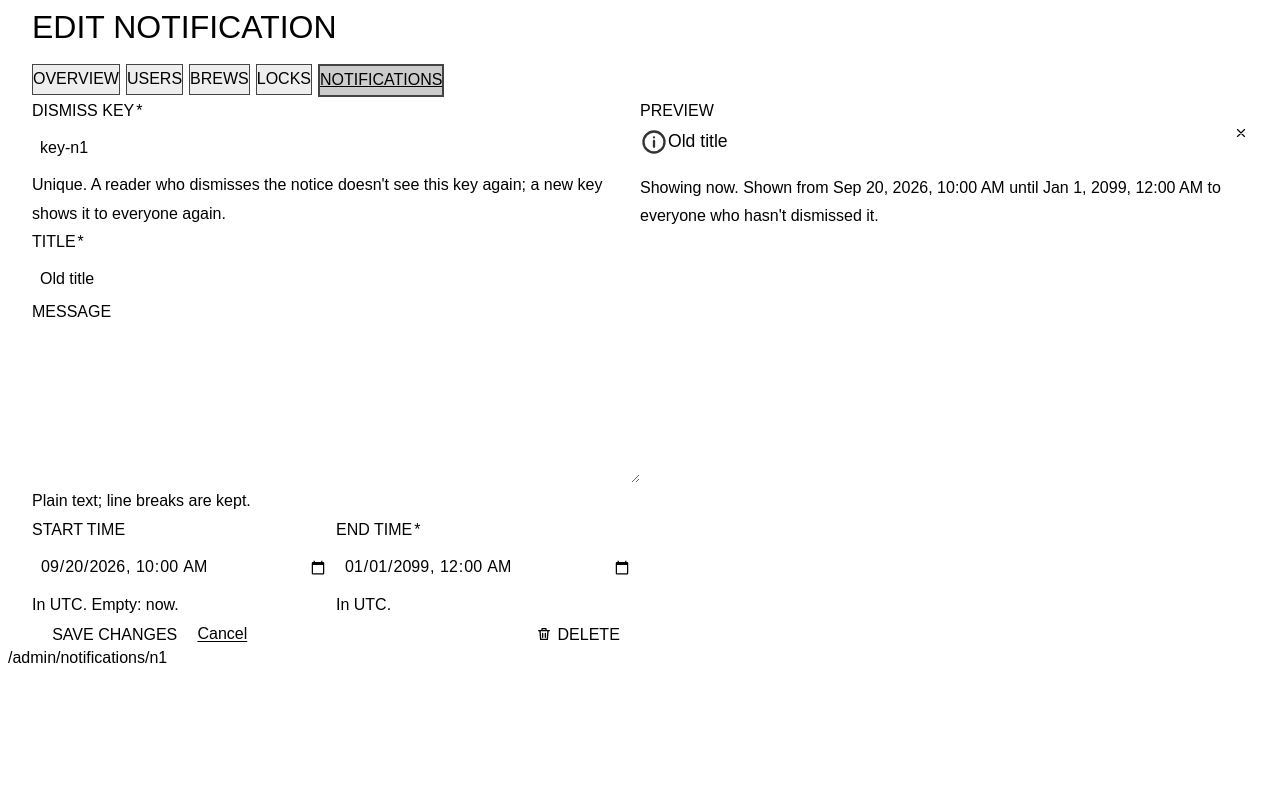
Test case: notifications › edits one and keeps untouched times as stored
Check: the heading "Edit notification" is shown, box top-left (32, 9), bottom-right (337, 45)
Check: the element with test id "admin-preview-when" shows "Showing now.", box top-left (640, 179), bottom-right (743, 196)
Replace the text in the field with test id "admin-notification-title" with "New title": (336, 280) top-left (32, 261), bottom-right (640, 298)
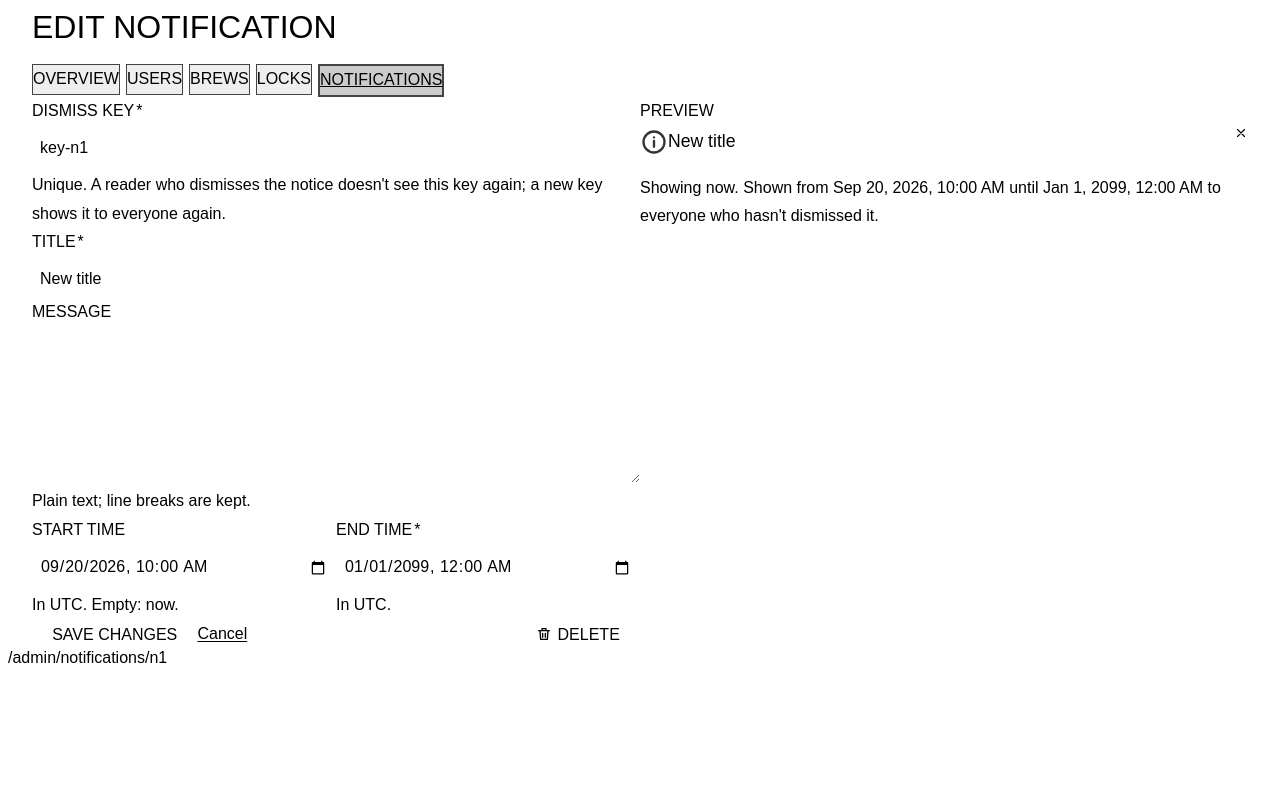
Check: the text with test id "admin-preview-title" reads "New title", box top-left (668, 131), bottom-right (736, 151)
Click the button with test id "admin-notification-save": (115, 634) top-left (32, 624), bottom-right (198, 645)
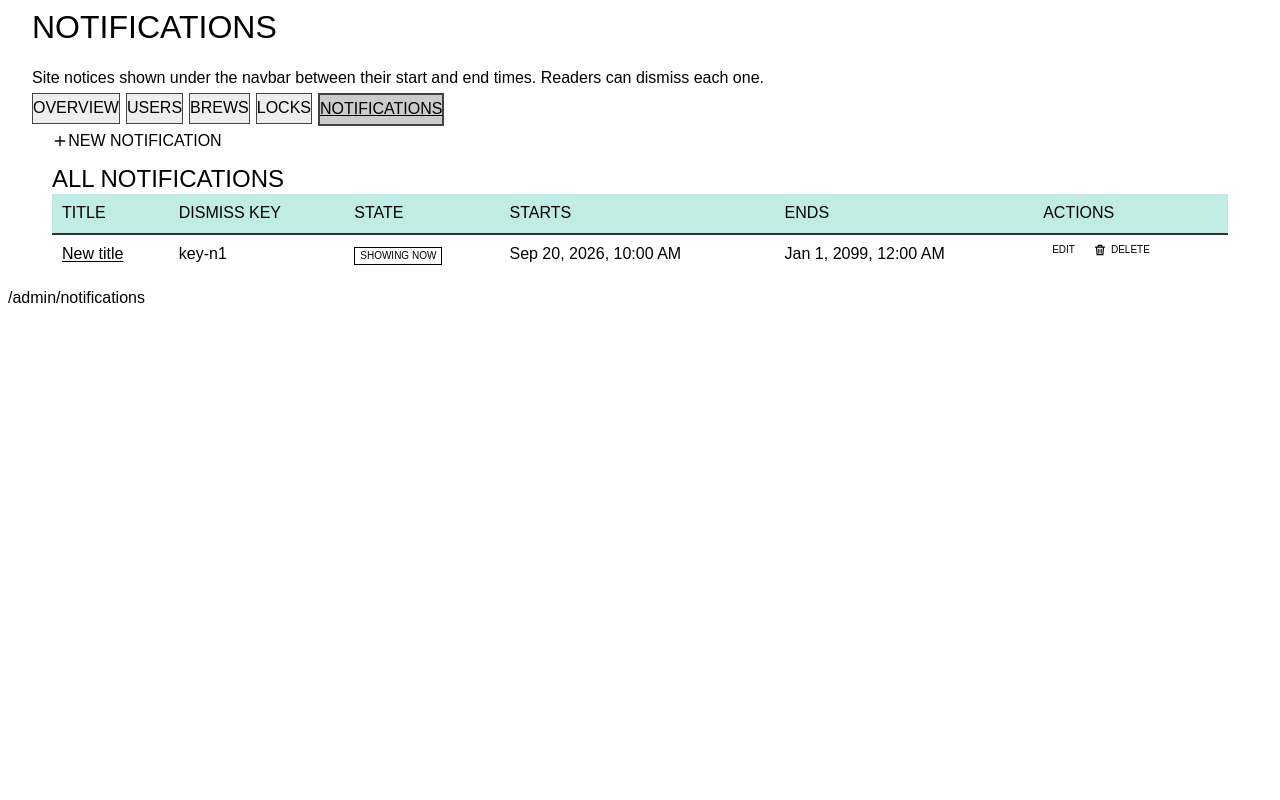
Check: the text with test id "location" reads "/admin/notifications", box top-left (8, 289), bottom-right (145, 306)
Check: the link "New title" is shown, box top-left (62, 245), bottom-right (123, 262)
